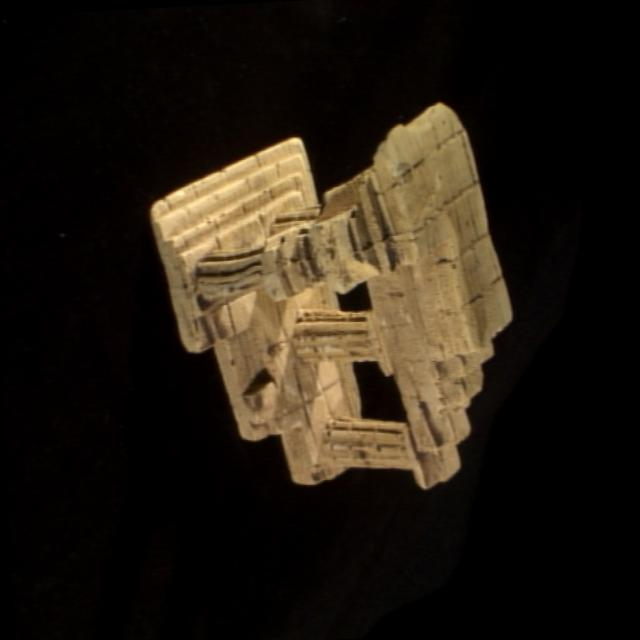Instance-Segmentation: (151, 104, 511, 487)
